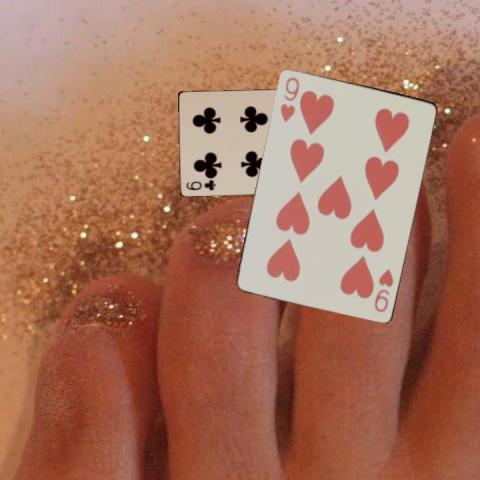6c: (183, 178, 217, 192)
9h: (276, 73, 300, 123), (370, 266, 394, 314)
